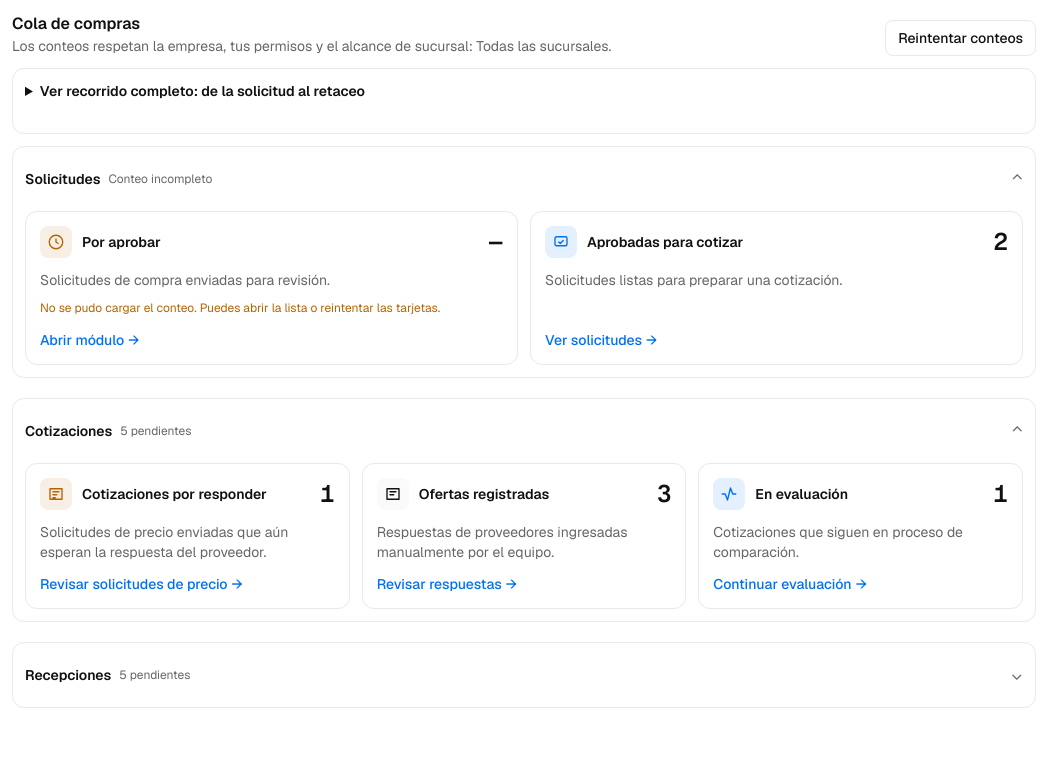
ProcurementWorkQueue › offers an accessible retry when a queue count fails
Expected: the text "No se pudo cargar el conteo. Puedes abrir la lista o reintentar las tarjetas." is shown, 40,298 -> 503,318
Click the button "Reintentar conteos" at (961, 38), box 885,20 -> 1036,56
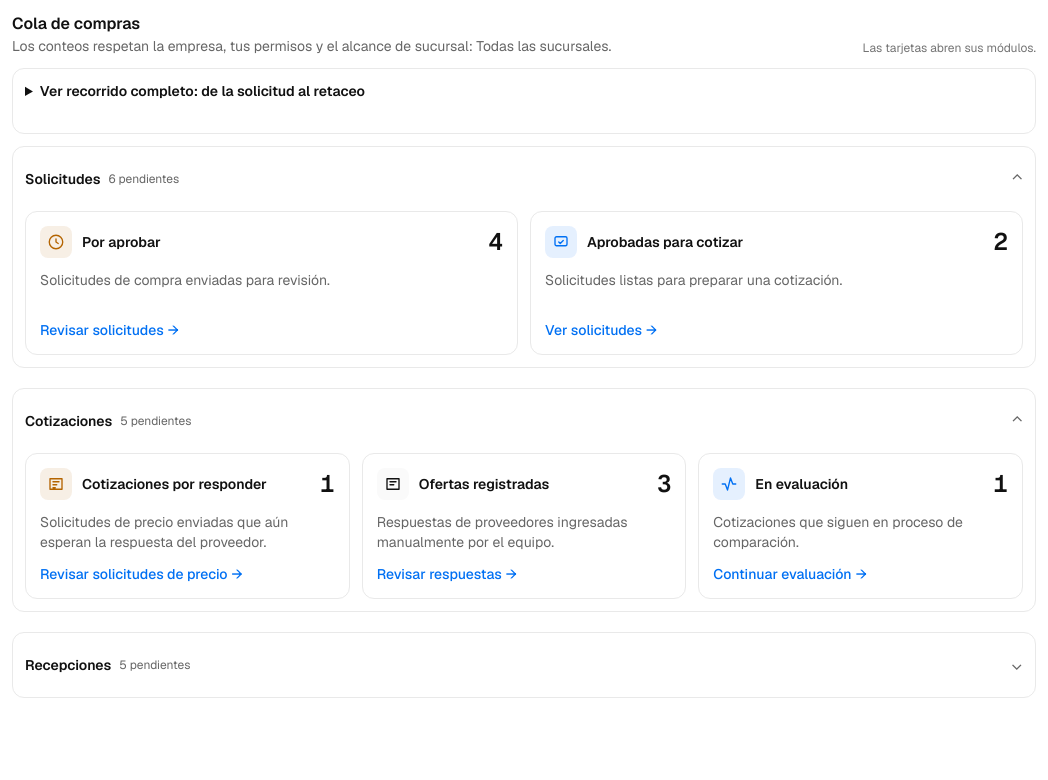
Expected: the text named "4 pendientes" is shown, 489,226 -> 503,258
